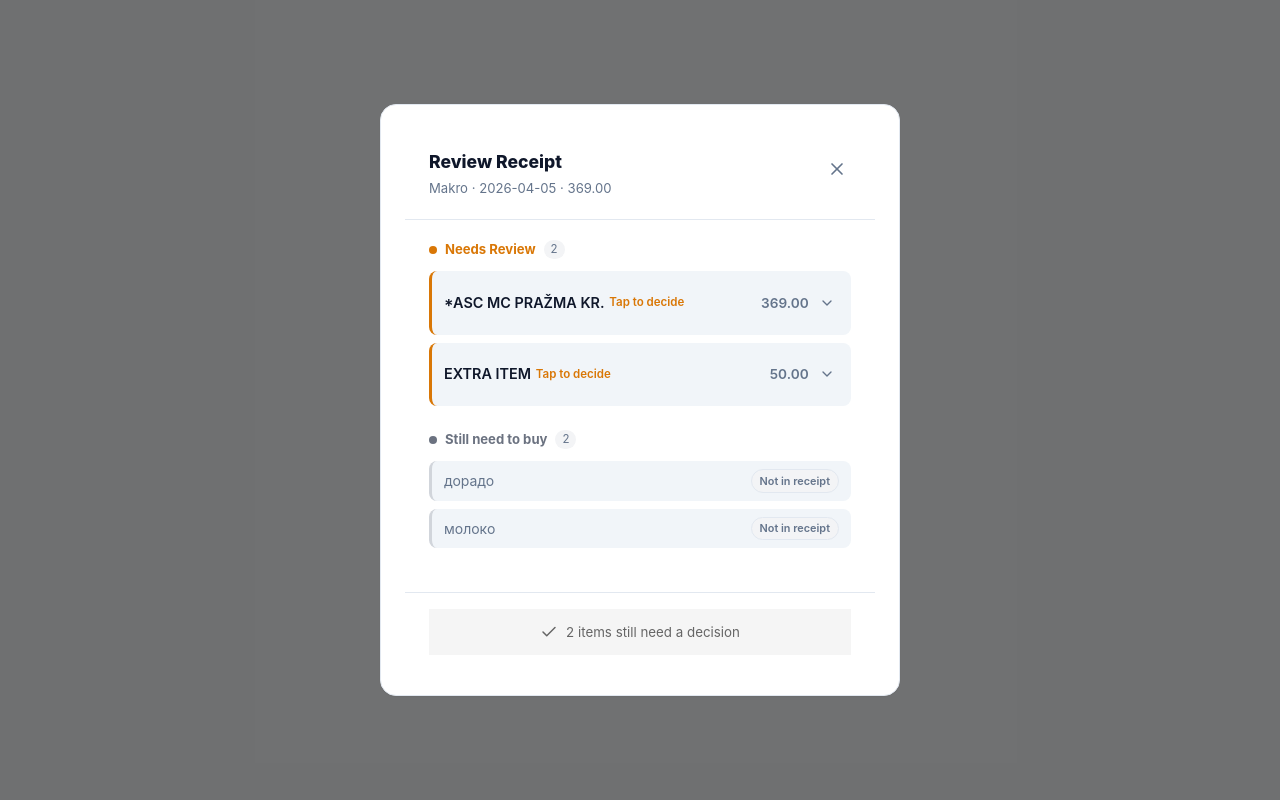
Test case: ReceiptMatchModal — planned item linking › reset restores initial state after multiple decisions
The image size is (1280, 800).
Expected: the text "*ASC MC PRAŽMA KR." is shown, [444, 292, 604, 314]
# Make decisions on both items
Click the button named "Show options" in the row of "*ASC MC PRAŽMA KR." at point(827, 303), box [815, 281, 839, 325]
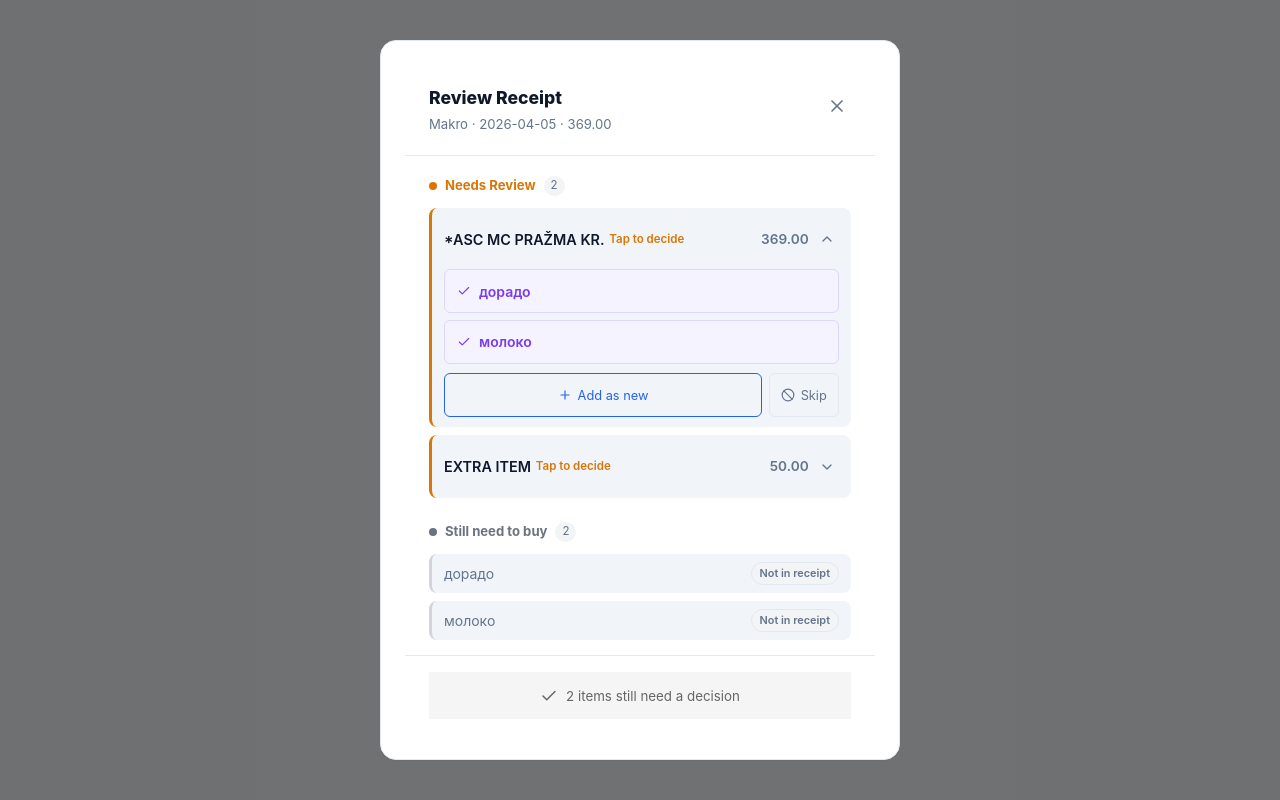
Click the button "дорадо" at point(505, 291), box [444, 269, 839, 313]
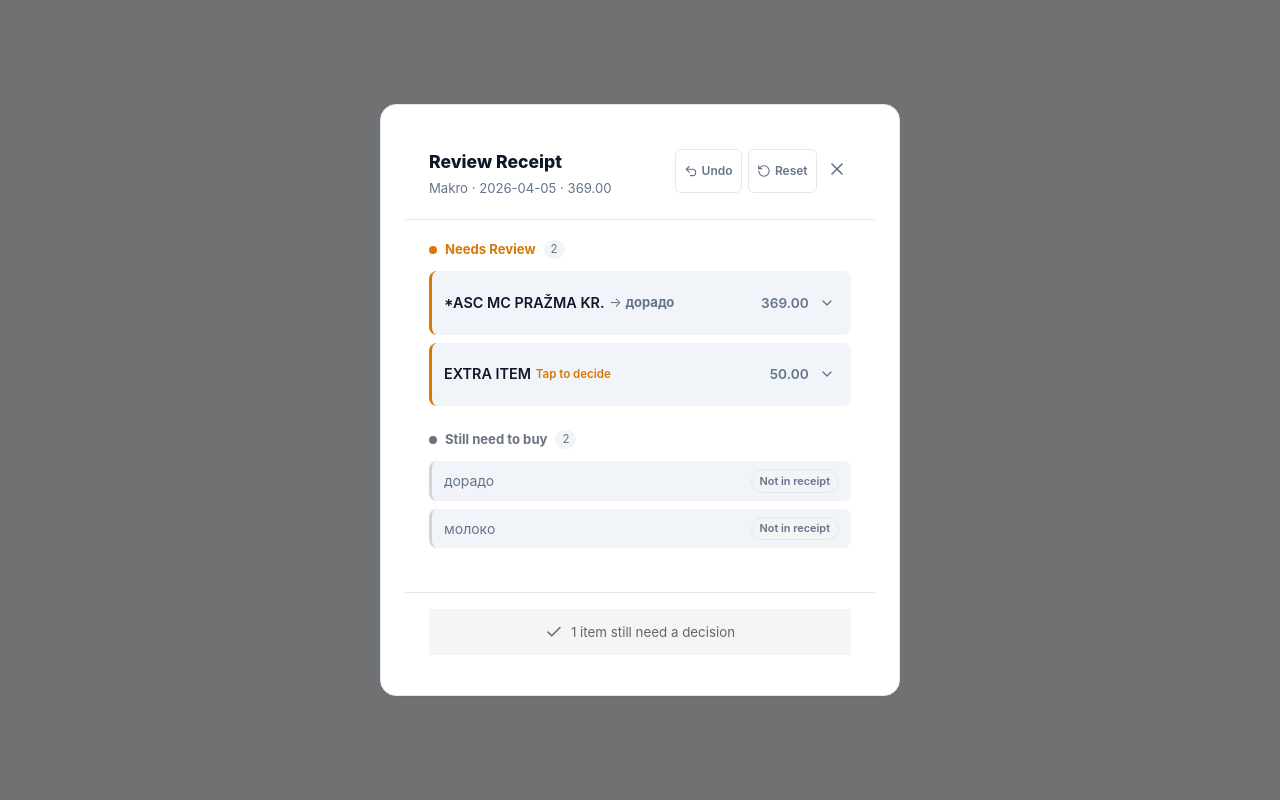
Click the button named "Show options" next to "50.00" at point(827, 374), box [815, 352, 839, 396]
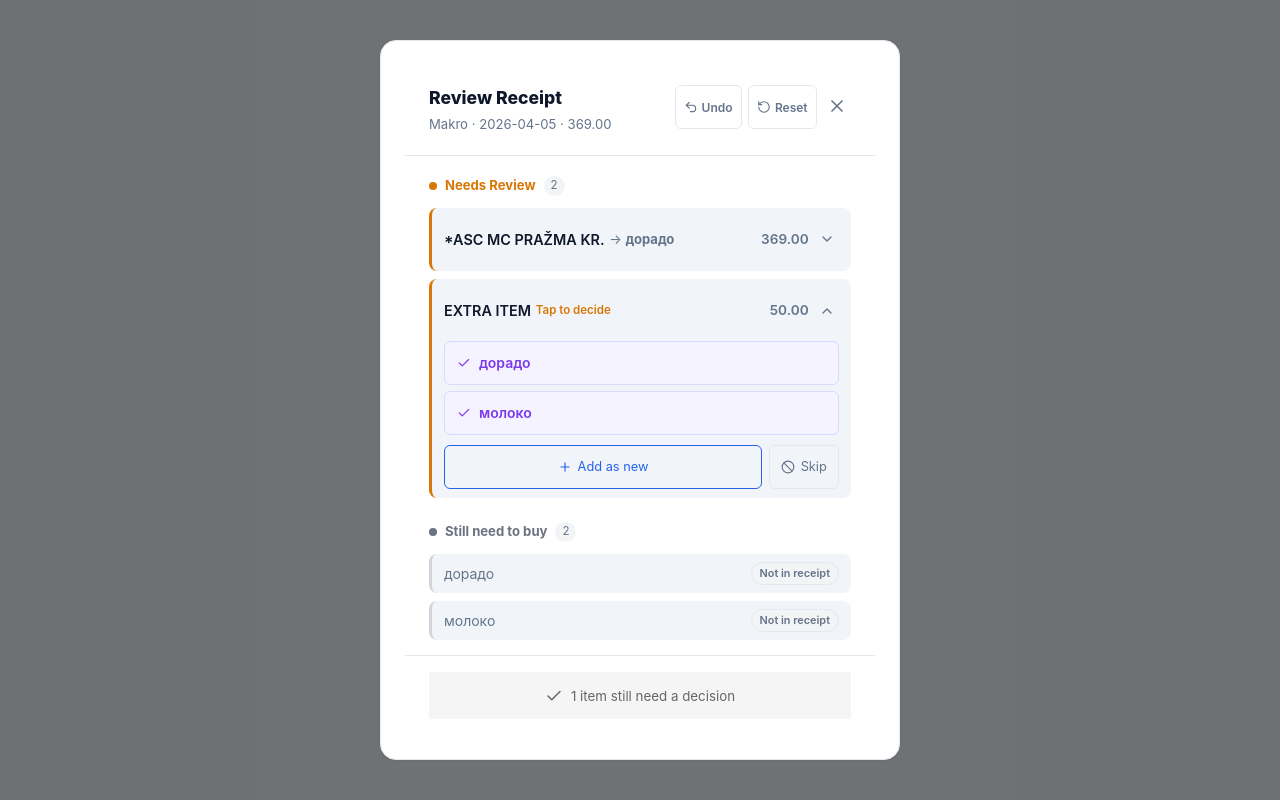
Click the button "Skip" at point(804, 466), box [769, 444, 839, 488]
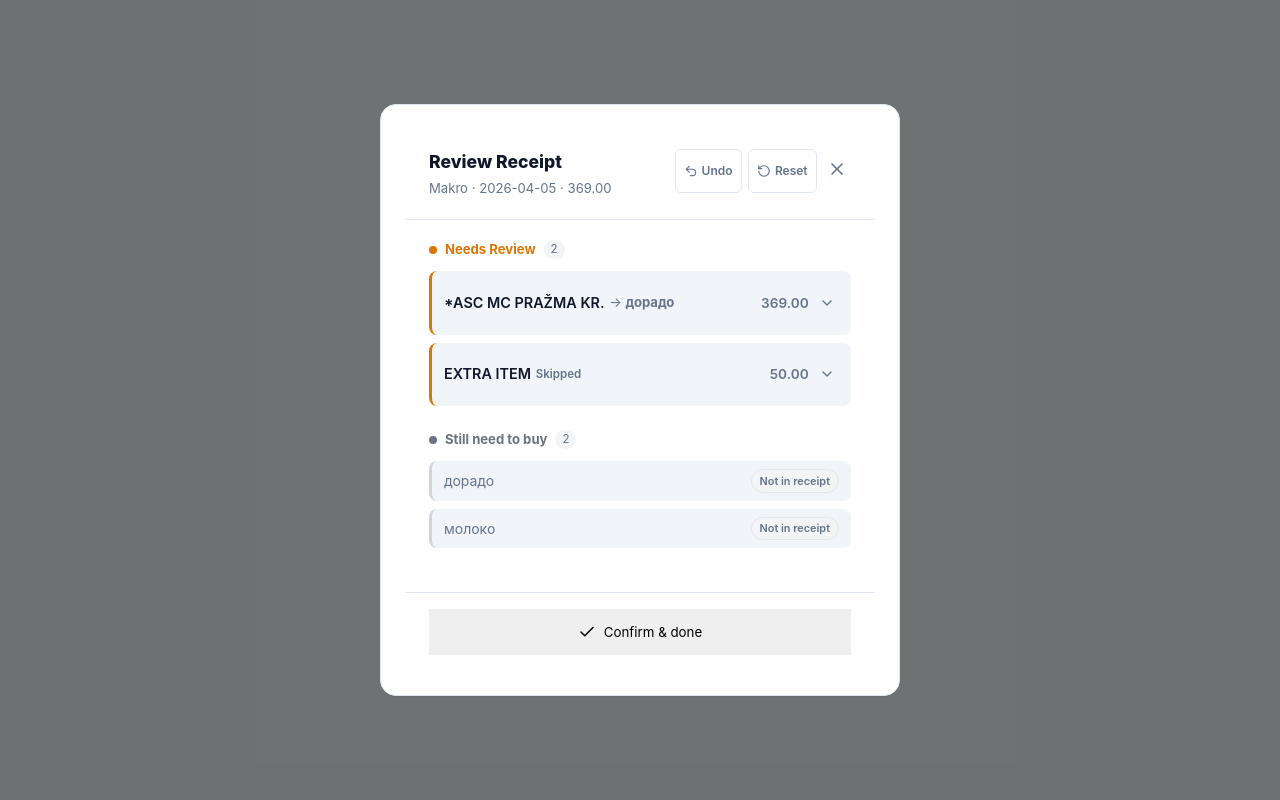
Result: the button "Reset" is shown
Result: the button with test id "confirm-all-btn" reads "Confirm & done" at [429, 609, 851, 655]
# Click Reset
Click the button "Reset" at point(782, 171), box [748, 149, 817, 193]
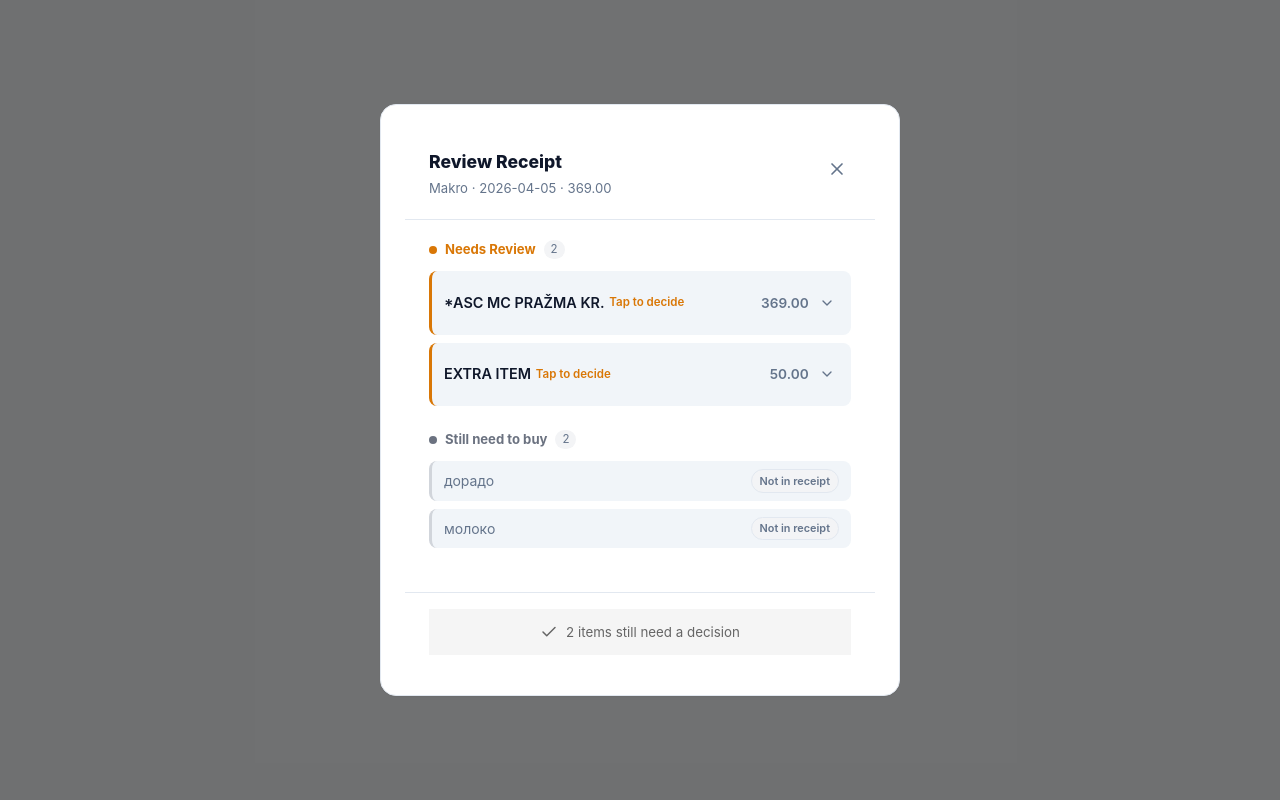
Result: the button "Reset" is gone
Result: the button "Undo" is gone
Result: the button with test id "confirm-all-btn" shows "still need a decision" at [429, 609, 851, 655]
